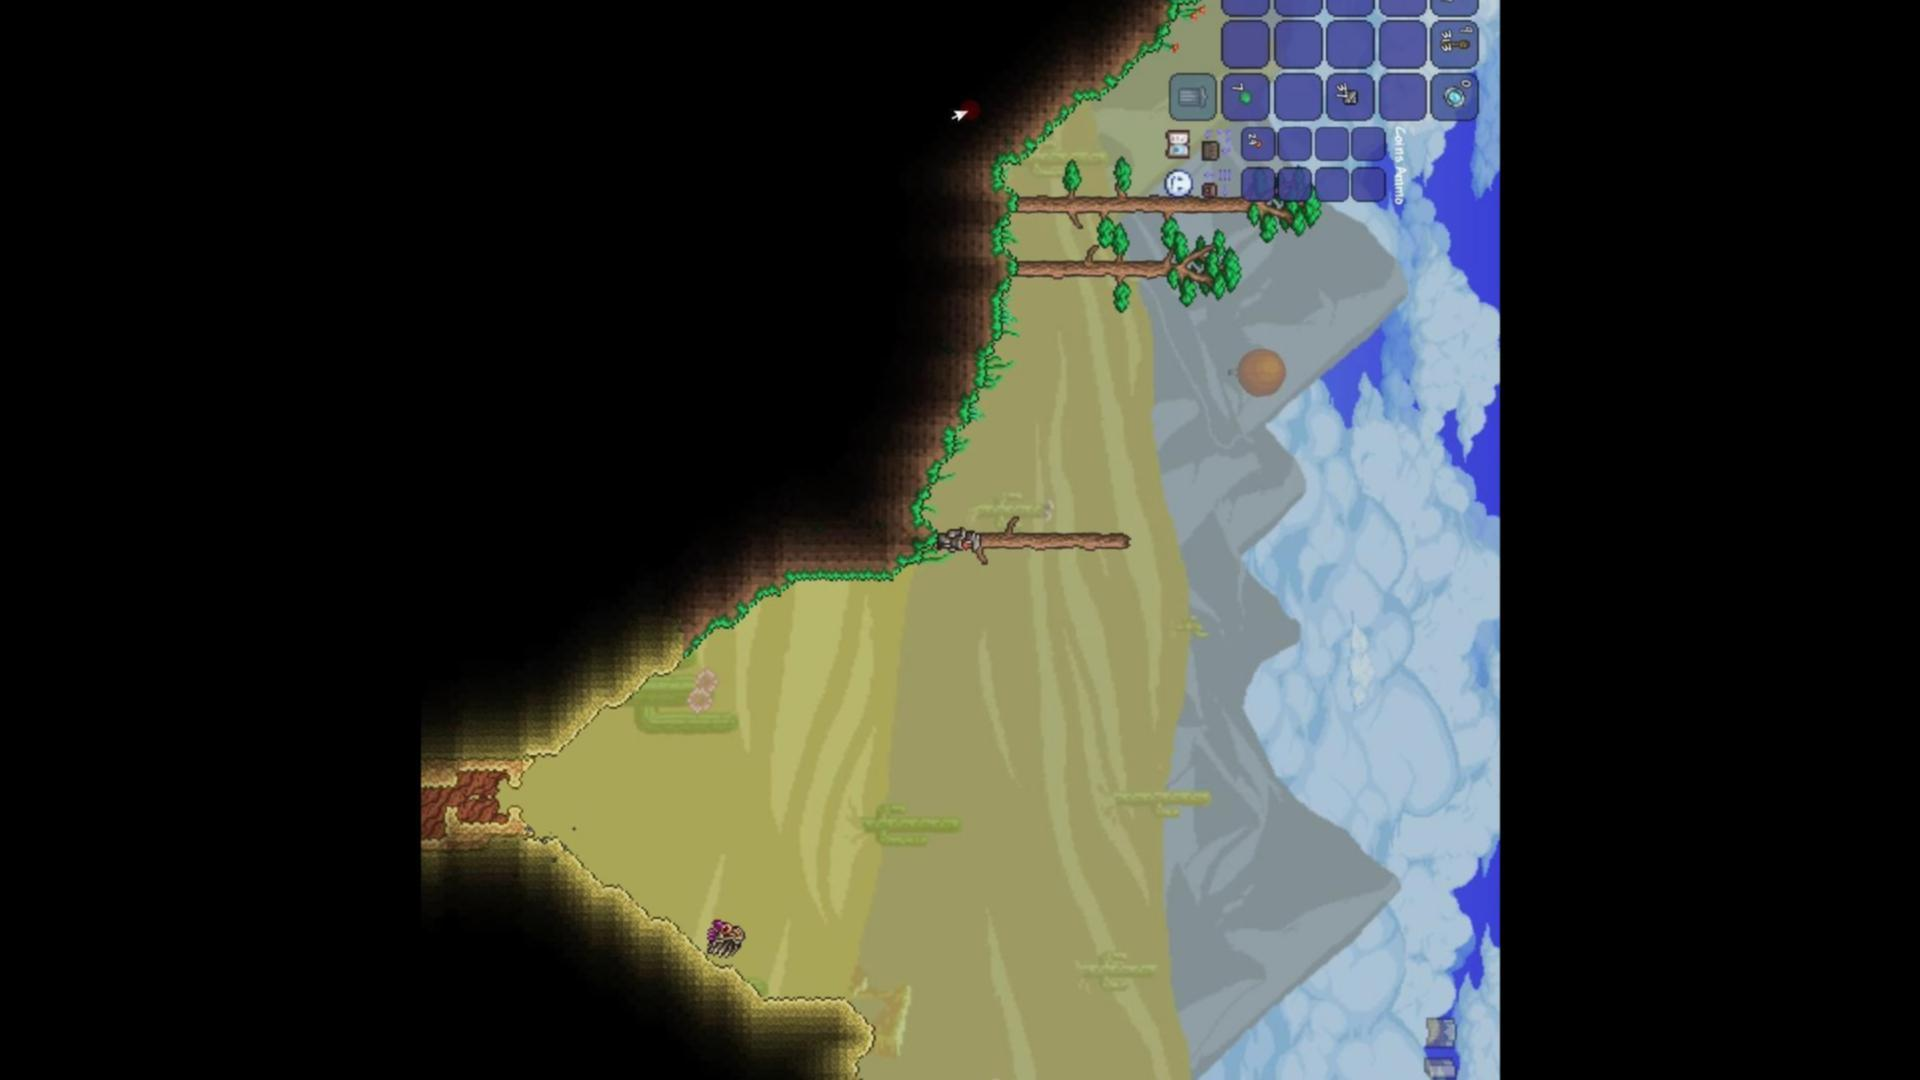gel: (1229, 83, 1266, 116)
knife: (1437, 0, 1476, 11)
mirror: (1433, 83, 1476, 112)
rope: (1429, 22, 1477, 65)
tree: (992, 166, 1333, 239), (997, 233, 1257, 320), (916, 509, 1156, 593)
